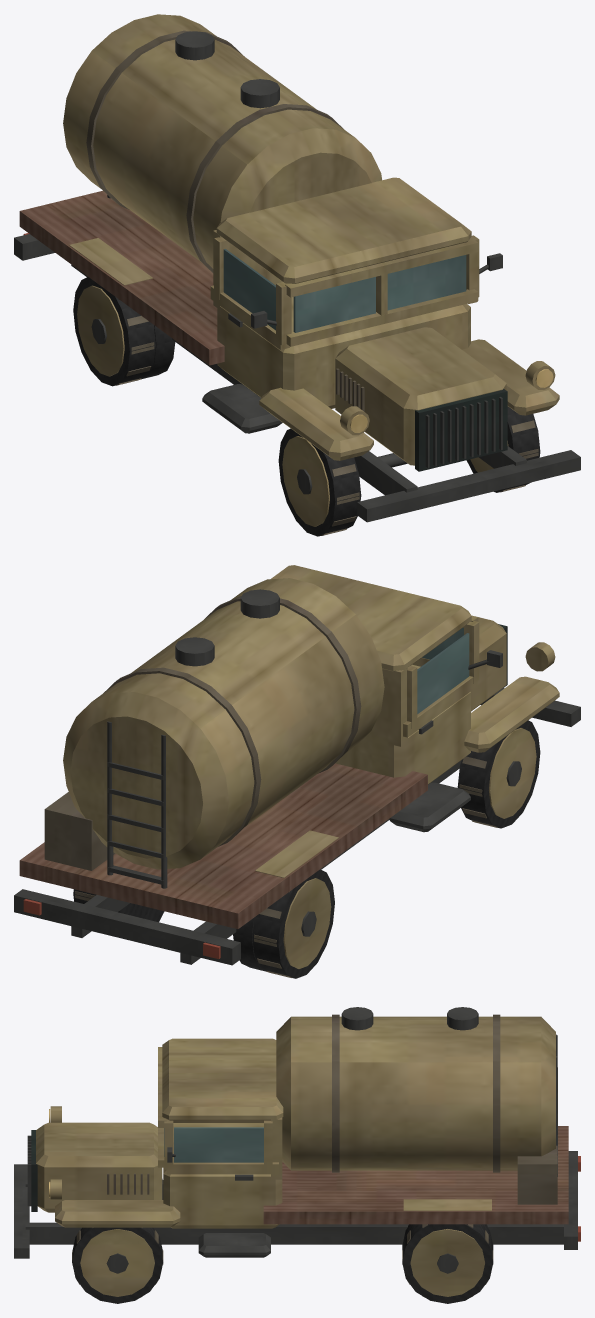
File: opel-blitz-tanker.glb
The picture shows the model from 3 angles, top to bottom: view 1: azimuth 30°, elevation 25°; view 2: azimuth 150°, elevation 25°; view 3: azimuth 270°, elevation 25°; orthographic projection. The views are drawn at different scales.
Visible parts, largest first — view 1: Opel Blitz | Tankwagen; view 2: Opel Blitz | Tankwagen; view 3: Opel Blitz | Tankwagen.
Boxes of the visible parts, x1=… form: Opel Blitz | Tankwagen: x1=14, y1=14, x2=580, y2=536; Opel Blitz | Tankwagen: x1=14, y1=565, x2=580, y2=978; Opel Blitz | Tankwagen: x1=14, y1=1007, x2=580, y2=1303.
Size of the model in its own units: 2.48 by 2.97 by 6.1.
1 material, 1 textured.
